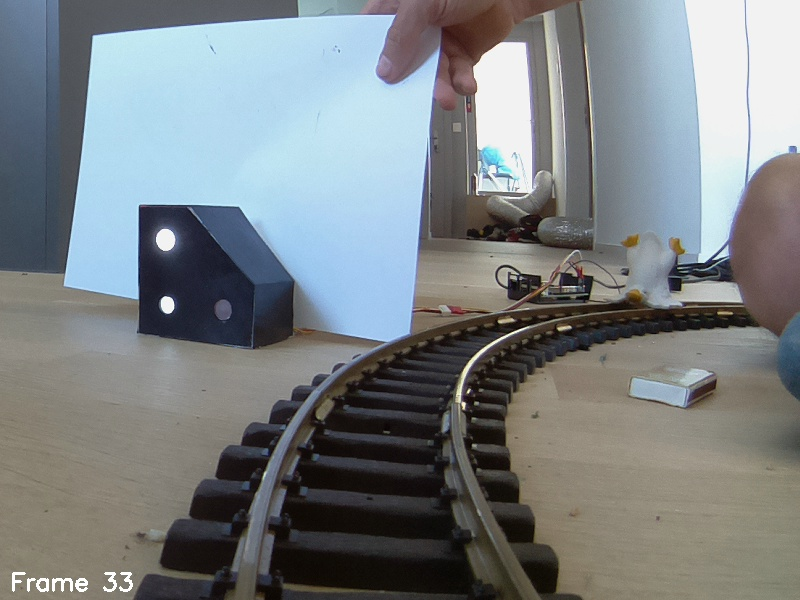Fahrt: (134, 200, 296, 354)
